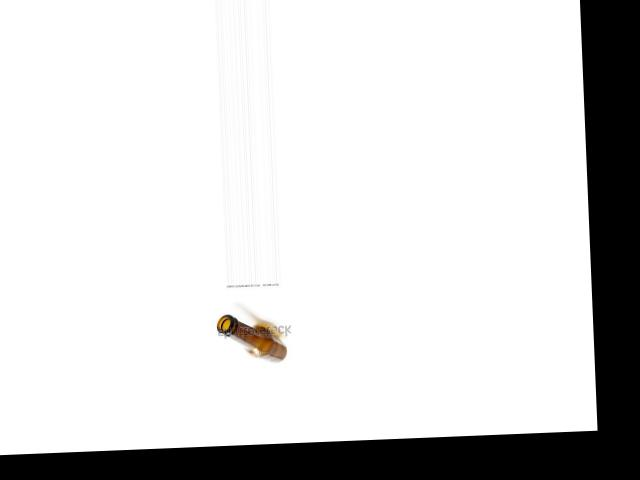beer: (216, 311, 287, 364)
